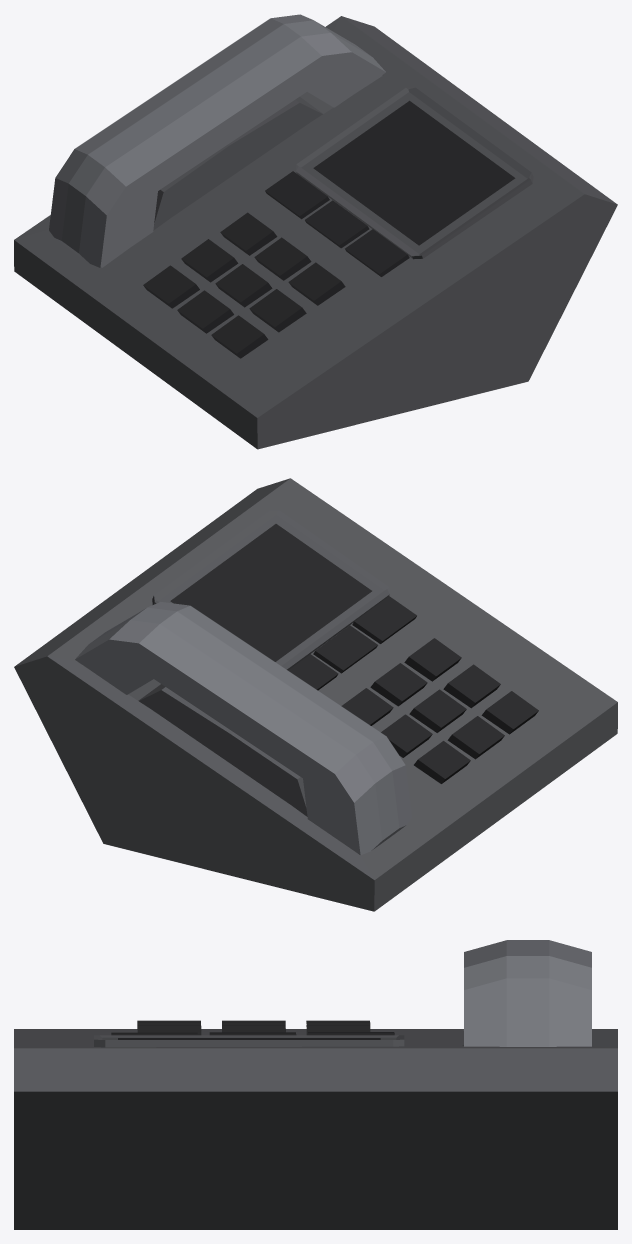
The model's file is Phone1.fbx.
The picture shows the model from 3 angles, top to bottom: view 1: azimuth 30°, elevation 25°; view 2: azimuth 150°, elevation 25°; view 3: azimuth 270°, elevation 25°; orthographic projection. The views are drawn at different scales.
Parts seen in each view (by area): view 1: Cube.027; view 2: Cube.027; view 3: Cube.027.
Part boxes in pixels (x1,y1,x2,y2): Cube.027: (14, 14, 617, 449); Cube.027: (14, 478, 617, 911); Cube.027: (14, 940, 617, 1229).
Size of the model in its own units: 51.69 by 60.44 by 28.56.
